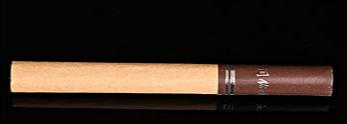Cigarette: (10, 60, 333, 97)
